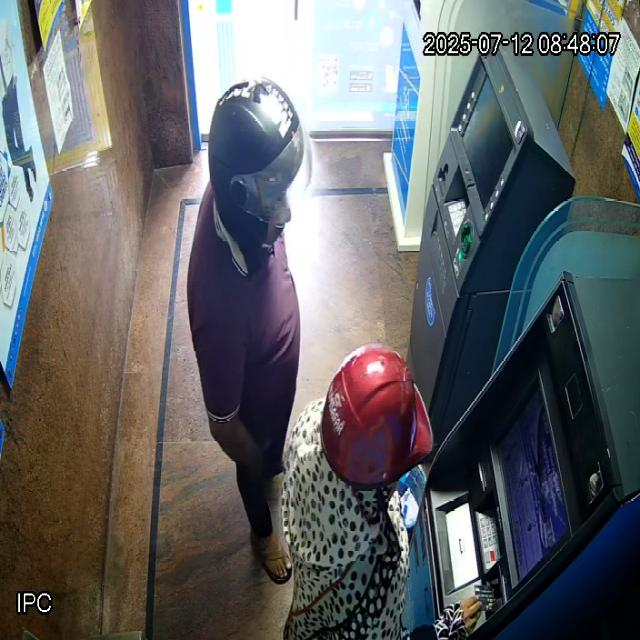helmet: (208, 74, 313, 253), (321, 342, 434, 488)
